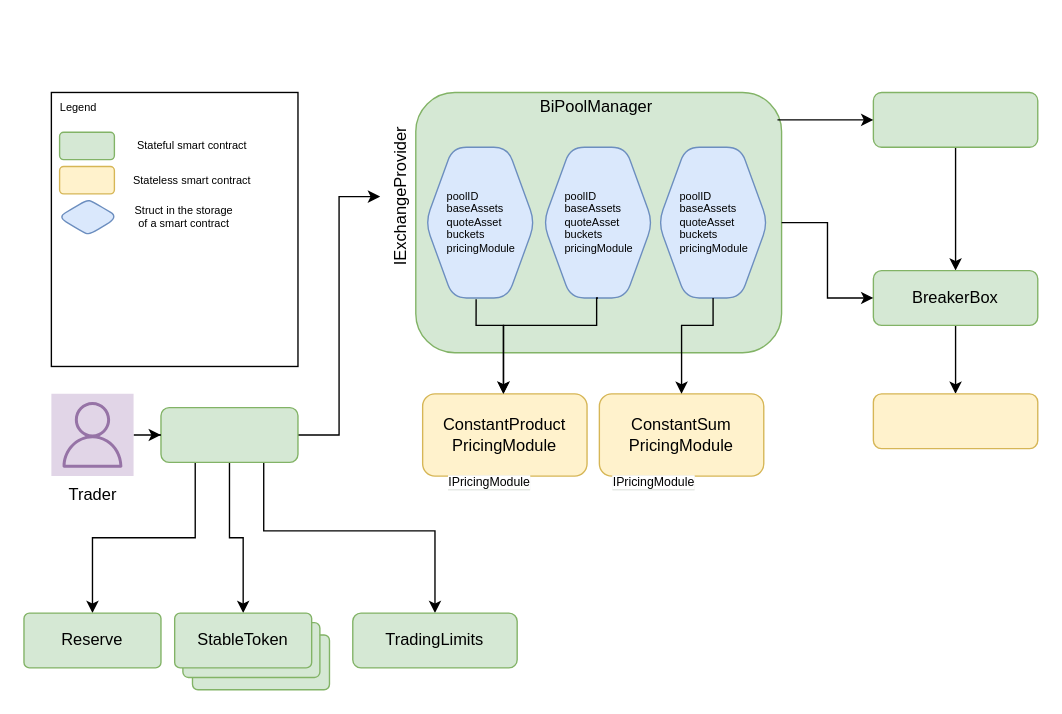
Some shapes in this 1062 by 714 pixel diagram are drawn without their labels. The shapes that lost their labels are listed below. From the top down, each one's centre as x and y in pixels, then its label:
At (955,119): "SortedOracles".
At (229,434): "Broker".
At (955,421): "MedianDeltaBreaker".
